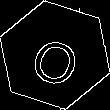O_N: (25, 24, 85, 86)
